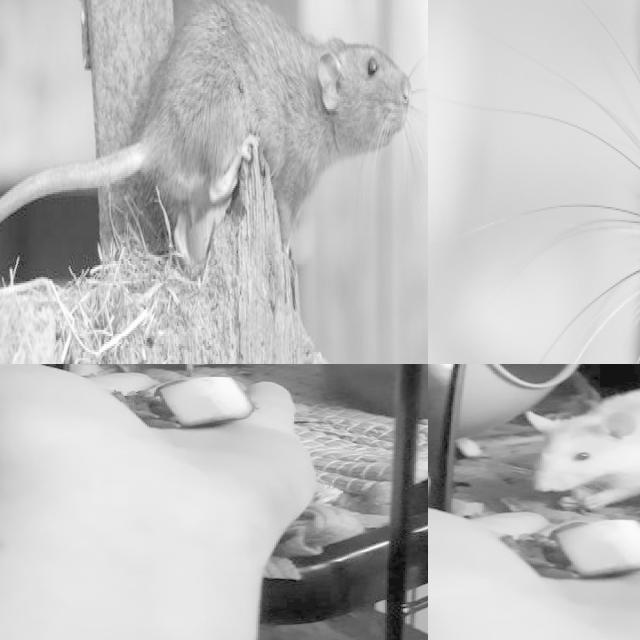rat: (46, 0, 428, 295), (521, 386, 640, 512)
